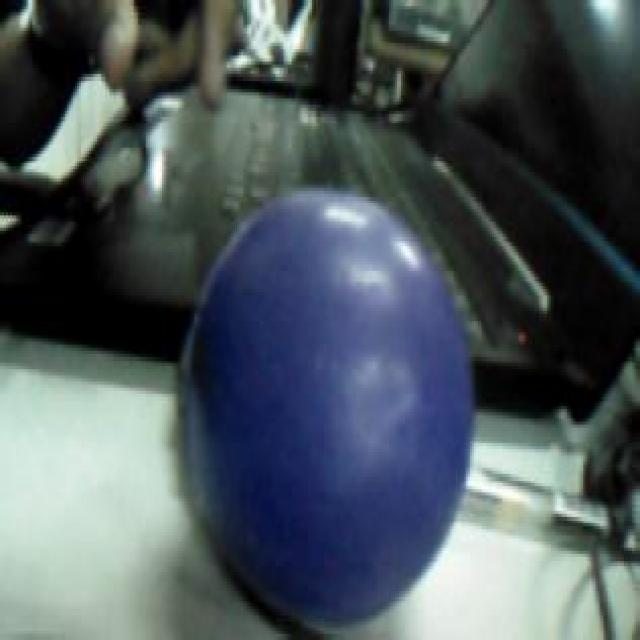BallPurple: (177, 185, 472, 636)
